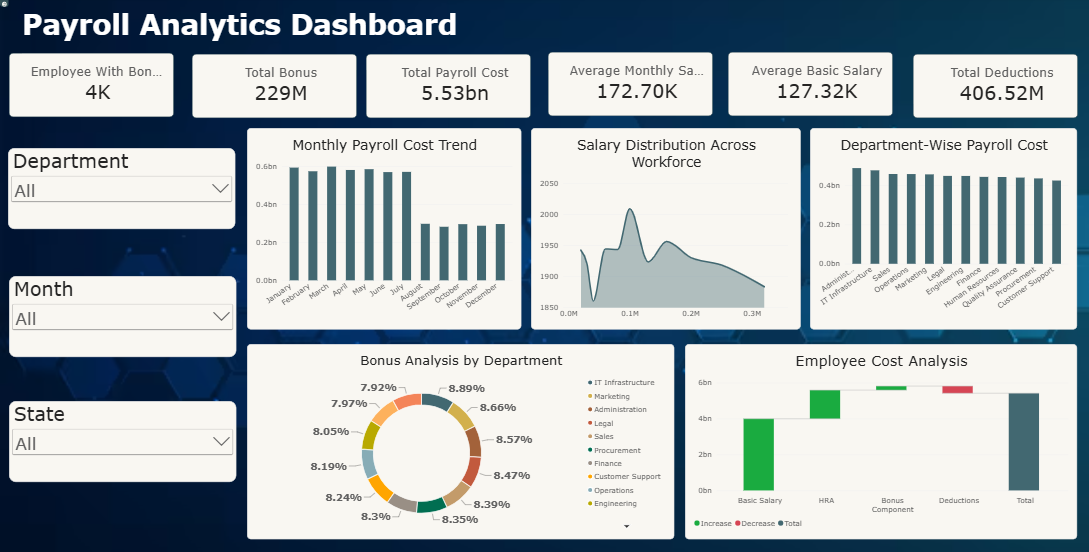

What the dashboard file says about the page in this screenshot:
{"tool":"powerbi","page":{"name":"Payroll Analytics","canvas":[2120,1080],"ordinal":5},"visuals":[{"type":"clusteredColumnChart","title":"Monthly Payroll Cost Trend","fields":{"Category":["payroll_cleaned.pay_month.Variation.Date Hierarchy.Month"],"Y":["payroll_cleaned.Total Payroll Cost"]},"box":[478.7,253,531.1,389.8],"z":0},{"type":"textbox","box":[42.5,19.1,1213.9,76.5],"z":1000},{"type":"areaChart","title":"Salary Distribution Across Workforce","fields":{"Y":["payroll_cleaned.Employee Count"],"Category":["payroll_cleaned.basic_salary (bins)"]},"box":[1028.1,253,522,389.8],"z":2000},{"type":"clusteredColumnChart","title":"Department-Wise Payroll Cost","fields":{"Category":["departments_cleaned.department_name"],"Y":["payroll_cleaned.Total Payroll Cost"]},"box":[1568.3,253,517.5,389.8],"z":3000},{"type":"donutChart","title":"Bonus Analysis by Department","fields":{"Category":["departments_cleaned.department_name"],"Y":["payroll_cleaned.Total Bonus"]},"box":[478.7,672.5,827.5,378.4],"z":4000},{"type":"waterfallChart","title":"Employee Cost Analysis","fields":{"Y":["payroll_cleaned.Cost Component Value"],"Category":["Table.Cost Component"]},"box":[1326.7,672.5,759.1,378.4],"z":5000},{"type":"actionButton","box":[0,0,17,19.1],"z":6000},{"type":"cardVisual","fields":{"Data":["payroll_cleaned.Employee With Bonus"]},"box":[17.7,108.4,319.2,124.1],"z":7000},{"type":"cardVisual","fields":{"Data":["payroll_cleaned.Total Bonus"]},"box":[371.6,109.4,319.2,124.1],"z":8000},{"type":"cardVisual","fields":{"Data":["payroll_cleaned.Total Payroll Cost"]},"box":[708.9,109.4,319.2,124.1],"z":9000},{"type":"cardVisual","fields":{"Data":["payroll_cleaned.Average Monthly Salary"]},"box":[1060,107.1,319.2,124.1],"z":10000},{"type":"cardVisual","fields":{"Data":["payroll_cleaned.Average Basic Salary"]},"box":[1408.8,107.1,319.2,124.1],"z":11000},{"type":"cardVisual","fields":{"Data":["payroll_cleaned.Total Deductions"]},"box":[1766.7,109.4,319.2,124.1],"z":12000},{"type":"slicer","fields":{"Values":["departments_cleaned.department_name"]},"box":[16,291.8,440,157.3],"z":13000},{"type":"slicer","fields":{"Values":["DateTable.Date.Variation.Date Hierarchy.Month"]},"box":[18.2,540.3,440,157.3],"z":14000},{"type":"slicer","fields":{"Values":["employees_cleaned.state"]},"box":[18.2,781.9,440,157.3],"z":15000}]}

Visuals, with their boxes in screenshot pixels (x1, y1, x2, y2), scaled from the page's 2120x1080 canvas onto the 1089x552 screenshot:
"Monthly Payroll Cost Trend" clusteredColumnChart: <bbox>246, 129, 519, 329</bbox>
textbox: <bbox>22, 10, 645, 49</bbox>
"Salary Distribution Across Workforce" areaChart: <bbox>528, 129, 796, 329</bbox>
"Department-Wise Payroll Cost" clusteredColumnChart: <bbox>806, 129, 1071, 329</bbox>
"Bonus Analysis by Department" donutChart: <bbox>246, 344, 671, 537</bbox>
"Employee Cost Analysis" waterfallChart: <bbox>681, 344, 1071, 537</bbox>
actionButton: <bbox>0, 0, 9, 10</bbox>
cardVisual - payroll_cleaned.Employee With Bonus: <bbox>9, 55, 173, 119</bbox>
cardVisual - payroll_cleaned.Total Bonus: <bbox>191, 56, 355, 119</bbox>
cardVisual - payroll_cleaned.Total Payroll Cost: <bbox>364, 56, 528, 119</bbox>
cardVisual - payroll_cleaned.Average Monthly Salary: <bbox>544, 55, 708, 118</bbox>
cardVisual - payroll_cleaned.Average Basic Salary: <bbox>724, 55, 888, 118</bbox>
cardVisual - payroll_cleaned.Total Deductions: <bbox>908, 56, 1071, 119</bbox>
slicer - departments_cleaned.department_name: <bbox>8, 149, 234, 230</bbox>
slicer - DateTable.Date.Variation.Date Hierarchy.Month: <bbox>9, 276, 235, 357</bbox>
slicer - employees_cleaned.state: <bbox>9, 400, 235, 480</bbox>
